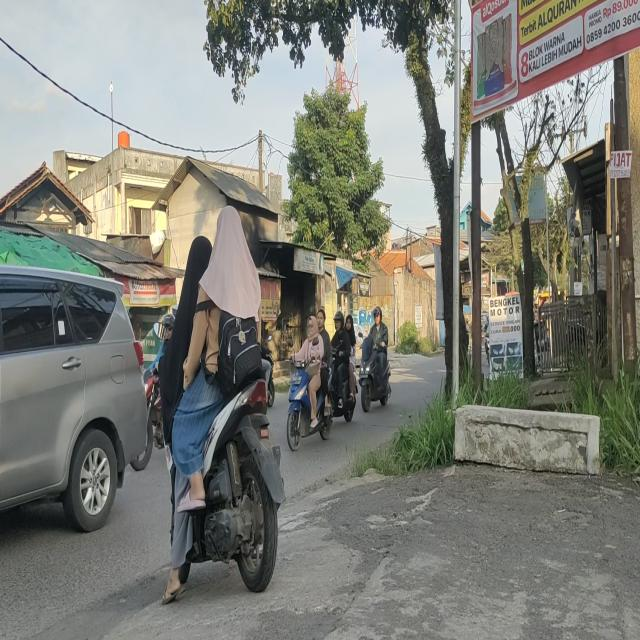helmet: (332, 311, 343, 334), (162, 314, 174, 334), (372, 307, 382, 325)
no-helmet: (214, 203, 242, 258), (189, 235, 214, 278), (316, 308, 325, 332), (308, 315, 316, 339), (346, 313, 354, 333)
